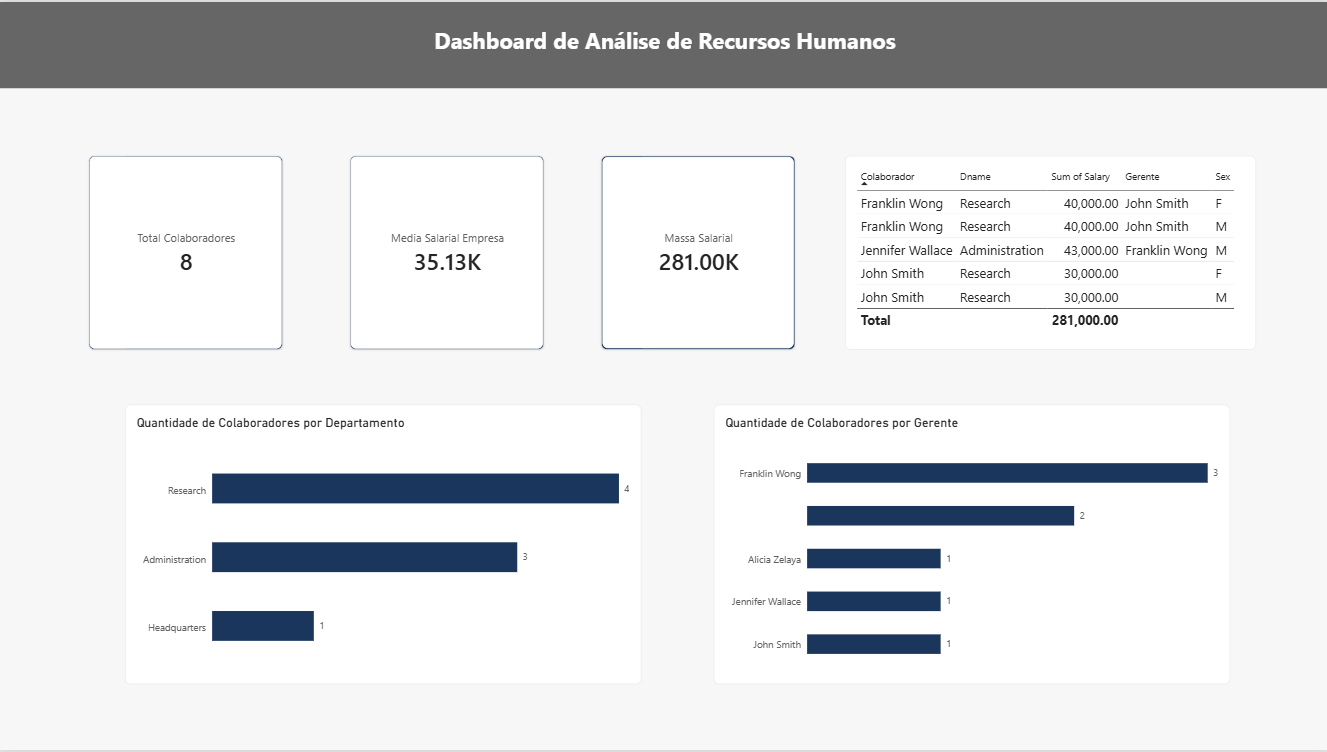

What the dashboard file says about the page in this screenshot:
{"tool":"powerbi","page":{"name":"Page 1","canvas":[1920,1080],"ordinal":0},"visuals":[{"type":"cardVisual","fields":{"Data":["azure_company departament.Total Colaboradores"]},"box":[128.1,222,280,280],"z":0},{"type":"barChart","title":"Quantidade de Colaboradores por Gerente","fields":{"Category":["azure_company employee.Gerente"],"Y":["azure_company departament.Total Colaboradores"]},"box":[1030.6,581.2,745.4,404.3],"z":1},{"type":"cardVisual","fields":{"Data":["azure_company departament.Massa Salarial"]},"box":[868.1,222,280,280],"z":2},{"type":"cardVisual","fields":{"Data":["azure_company employee.Media Salarial Empresa"]},"box":[505.4,222,280,280],"z":3},{"type":"clusteredBarChart","title":"Quantidade de Colaboradores por Departamento","fields":{"Category":["azure_company departament.Dname"],"Y":["azure_company departament.Total Colaboradores"]},"box":[180.5,581.2,745.4,404.3],"z":4},{"type":"tableEx","fields":{"Values":["azure_company employee.Colaborador","azure_company departament.Dname","Sum(azure_company employee.Salary)","azure_company employee.Gerente","azure_company dependent.Sex"]},"box":[1220.1,222,593.8,279.8],"z":6},{"type":"shape","box":[0,0,1920.4,124.5],"z":8},{"type":"textbox","box":[0,14.4,1920.4,86.6],"z":9}]}

Visuals, with their boxes in screenshot pixels (x1, y1, x2, y2), scaled from the page's 1920x1080 canvas onto the 1327x752 screenshot:
cardVisual - azure_company departament.Total Colaboradores: x1=89 y1=155 x2=282 y2=350
"Quantidade de Colaboradores por Gerente" barChart: x1=712 y1=405 x2=1227 y2=686
cardVisual - azure_company departament.Massa Salarial: x1=600 y1=155 x2=794 y2=350
cardVisual - azure_company employee.Media Salarial Empresa: x1=349 y1=155 x2=543 y2=350
"Quantidade de Colaboradores por Departamento" clusteredBarChart: x1=125 y1=405 x2=640 y2=686
tableEx - azure_company employee.Colaborador x azure_company departament.Dname: x1=843 y1=155 x2=1254 y2=349
shape: x1=0 y1=0 x2=1326 y2=87
textbox: x1=0 y1=10 x2=1326 y2=70
